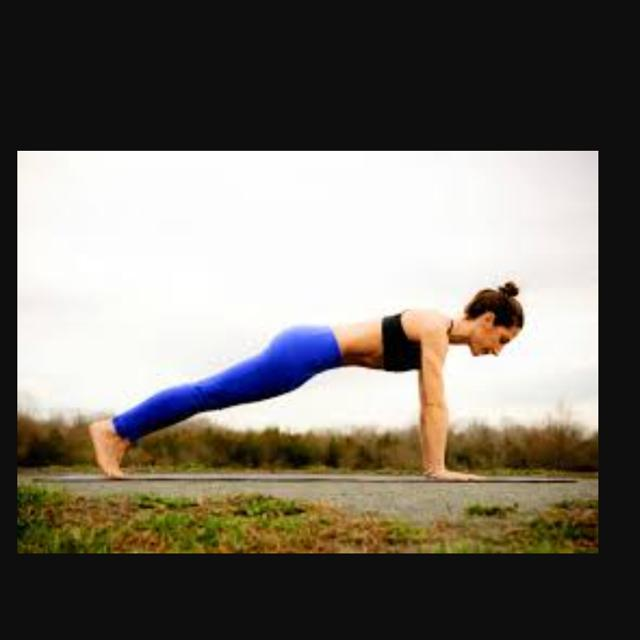Plank_Pose: (86, 277, 531, 490)
